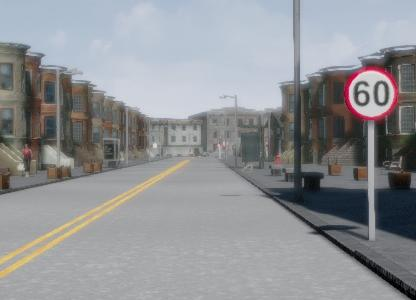Speed_60: (371, 60, 416, 119)
